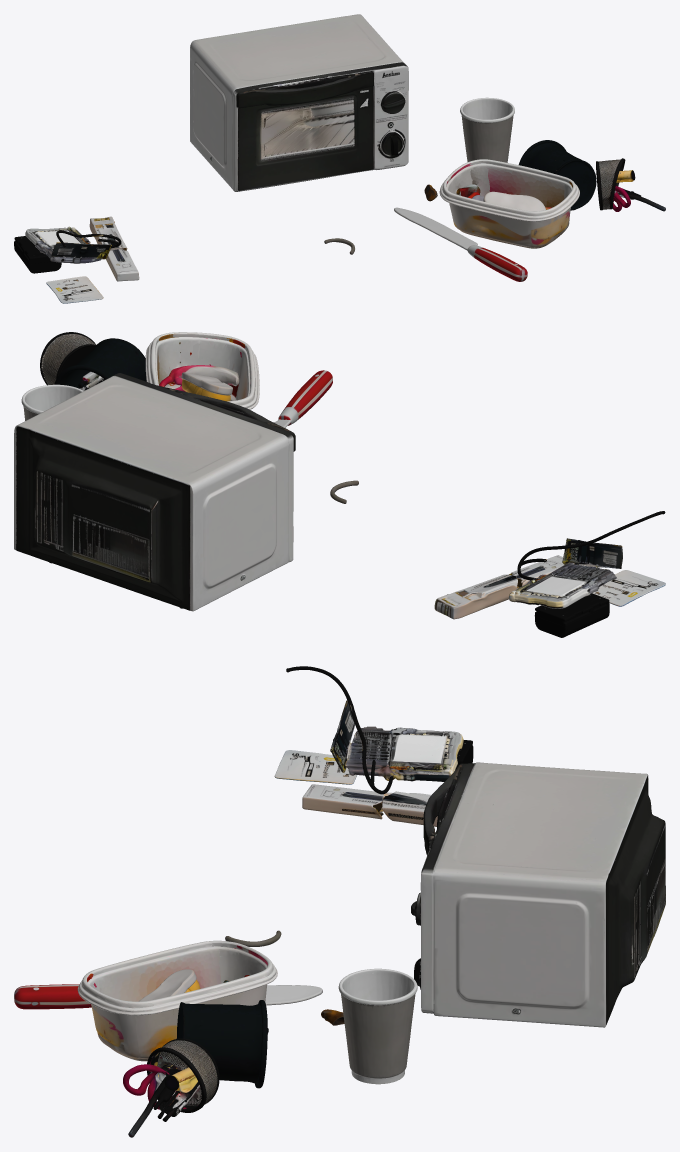
File: simfoundry.glb
The picture shows the model from 3 angles, top to bottom: view 1: azimuth 30°, elevation 25°; view 2: azimuth 150°, elevation 25°; view 3: azimuth 270°, elevation 25°; orthographic projection. The views are drawn at different scales.
Visible parts, largest first — view 1: white_microwave_oven_sbgqmv_link_iter_11_canonical_mesh_obj, gray_cup_with_tools_yswgxk_link_iter_4_canonical_mesh_obj, white_paper_cup_pdfjqm_link_iter_8_canonical_mesh_obj, white_business_cards_ffilyk_link_iter_15_canonical_mesh_obj, black_mesh_pen_holder_naueie_link_iter_1_canonical_mesh_obj, red_knife_ceyxuq_link_iter_2_canonical_mesh_obj, gray_cup_with_tools_nqxyjw_link_iter_5_canonical_mesh_obj, white_box_qmgmjy_link_iter_13_canonical_mesh_obj, small_white_paper_scrap_owlixi_link_iter_12_canonical_mesh_o, black_memory_stick_glrieh_link_iter_14_canonical_mesh_obj, clear_plastic_container_lakccm_link_iter_3_canonical_mesh_ob; view 2: white_microwave_oven_sbgqmv_link_iter_11_canonical_mesh_obj, gray_cup_with_tools_yswgxk_link_iter_4_canonical_mesh_obj, white_business_cards_ffilyk_link_iter_15_canonical_mesh_obj, black_mesh_pen_holder_naueie_link_iter_1_canonical_mesh_obj, white_box_qmgmjy_link_iter_13_canonical_mesh_obj, black_memory_stick_glrieh_link_iter_14_canonical_mesh_obj, gray_cup_with_tools_nqxyjw_link_iter_5_canonical_mesh_obj, small_white_paper_scrap_owlixi_link_iter_12_canonical_mesh_o, red_knife_ceyxuq_link_iter_2_canonical_mesh_obj, white_paper_cup_pdfjqm_link_iter_8_canonical_mesh_obj, clear_plastic_container_lakccm_link_iter_3_canonical_mesh_ob; view 3: white_microwave_oven_sbgqmv_link_iter_11_canonical_mesh_obj, gray_cup_with_tools_yswgxk_link_iter_4_canonical_mesh_obj, white_paper_cup_pdfjqm_link_iter_8_canonical_mesh_obj, white_business_cards_ffilyk_link_iter_15_canonical_mesh_obj, black_mesh_pen_holder_naueie_link_iter_1_canonical_mesh_obj, gray_cup_with_tools_nqxyjw_link_iter_5_canonical_mesh_obj, white_box_qmgmjy_link_iter_13_canonical_mesh_obj, red_knife_ceyxuq_link_iter_2_canonical_mesh_obj, small_white_paper_scrap_owlixi_link_iter_12_canonical_mesh_o, clear_plastic_container_lakccm_link_iter_3_canonical_mesh_ob.
Boxes of the visible parts, x1,y1,x2,y2 form: white_microwave_oven_sbgqmv_link_iter_11_canonical_mesh_obj: [190, 14, 408, 191]; gray_cup_with_tools_yswgxk_link_iter_4_canonical_mesh_obj: [439, 159, 579, 248]; white_paper_cup_pdfjqm_link_iter_8_canonical_mesh_obj: [460, 97, 514, 162]; white_business_cards_ffilyk_link_iter_15_canonical_mesh_obj: [25, 226, 121, 263]; black_mesh_pen_holder_naueie_link_iter_1_canonical_mesh_obj: [518, 140, 596, 210]; red_knife_ceyxuq_link_iter_2_canonical_mesh_obj: [394, 207, 527, 281]; gray_cup_with_tools_nqxyjw_link_iter_5_canonical_mesh_obj: [596, 158, 665, 211]; white_box_qmgmjy_link_iter_13_canonical_mesh_obj: [89, 216, 139, 281]; small_white_paper_scrap_owlixi_link_iter_12_canonical_mesh_o: [46, 276, 103, 303]; black_memory_stick_glrieh_link_iter_14_canonical_mesh_obj: [14, 236, 61, 273]; clear_plastic_container_lakccm_link_iter_3_canonical_mesh_ob: [483, 191, 545, 211]; white_microwave_oven_sbgqmv_link_iter_11_canonical_mesh_obj: [14, 373, 295, 611]; gray_cup_with_tools_yswgxk_link_iter_4_canonical_mesh_obj: [145, 332, 259, 409]; white_business_cards_ffilyk_link_iter_15_canonical_mesh_obj: [509, 511, 665, 608]; black_mesh_pen_holder_naueie_link_iter_1_canonical_mesh_obj: [54, 338, 146, 390]; white_box_qmgmjy_link_iter_13_canonical_mesh_obj: [434, 555, 564, 619]; black_memory_stick_glrieh_link_iter_14_canonical_mesh_obj: [534, 593, 609, 637]; gray_cup_with_tools_nqxyjw_link_iter_5_canonical_mesh_obj: [40, 332, 96, 385]; small_white_paper_scrap_owlixi_link_iter_12_canonical_mesh_o: [592, 570, 665, 606]; red_knife_ceyxuq_link_iter_2_canonical_mesh_obj: [274, 370, 332, 427]; white_paper_cup_pdfjqm_link_iter_8_canonical_mesh_obj: [21, 384, 83, 420]; clear_plastic_container_lakccm_link_iter_3_canonical_mesh_ob: [181, 372, 232, 401]; white_microwave_oven_sbgqmv_link_iter_11_canonical_mesh_obj: [411, 762, 665, 1027]; gray_cup_with_tools_yswgxk_link_iter_4_canonical_mesh_obj: [77, 940, 277, 1061]; white_paper_cup_pdfjqm_link_iter_8_canonical_mesh_obj: [338, 968, 417, 1084]; white_business_cards_ffilyk_link_iter_15_canonical_mesh_obj: [286, 666, 463, 794]; black_mesh_pen_holder_naueie_link_iter_1_canonical_mesh_obj: [176, 1000, 268, 1088]; gray_cup_with_tools_nqxyjw_link_iter_5_canonical_mesh_obj: [123, 1038, 219, 1137]; white_box_qmgmjy_link_iter_13_canonical_mesh_obj: [302, 784, 437, 826]; red_knife_ceyxuq_link_iter_2_canonical_mesh_obj: [14, 984, 322, 1009]; small_white_paper_scrap_owlixi_link_iter_12_canonical_mesh_o: [274, 750, 356, 784]; clear_plastic_container_lakccm_link_iter_3_canonical_mesh_ob: [139, 969, 200, 1001].
Size of what is drawn, in the model's own units: 1.02 by 0.1978 by 0.7298.
Materials: 16 (16 with a texture image).
